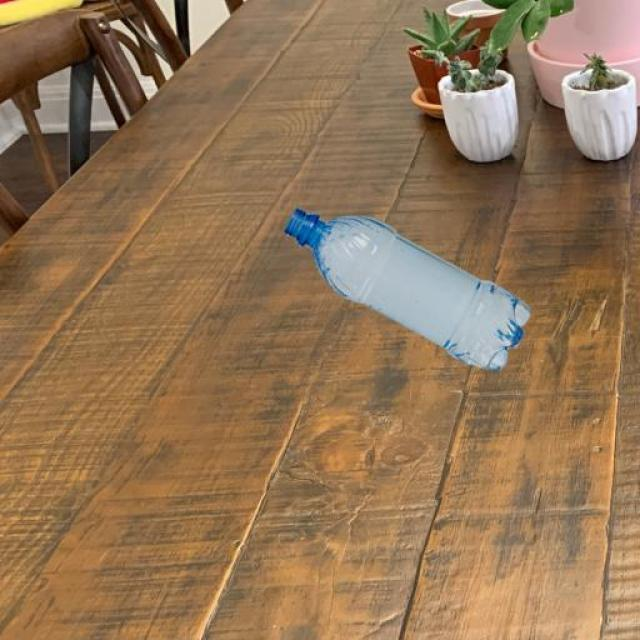bottle: (283, 205, 532, 373)
